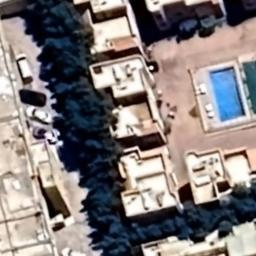sedan: (28, 124, 62, 146), (22, 104, 54, 125), (18, 85, 48, 107)
van: (14, 52, 36, 82)
